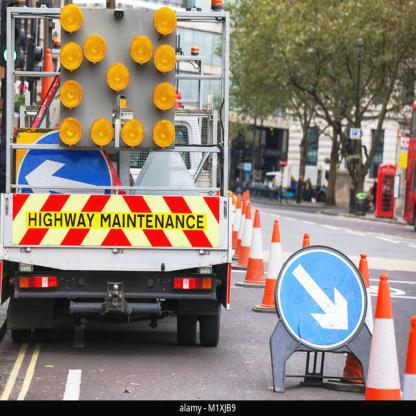Keep right: (274, 244, 367, 355)
